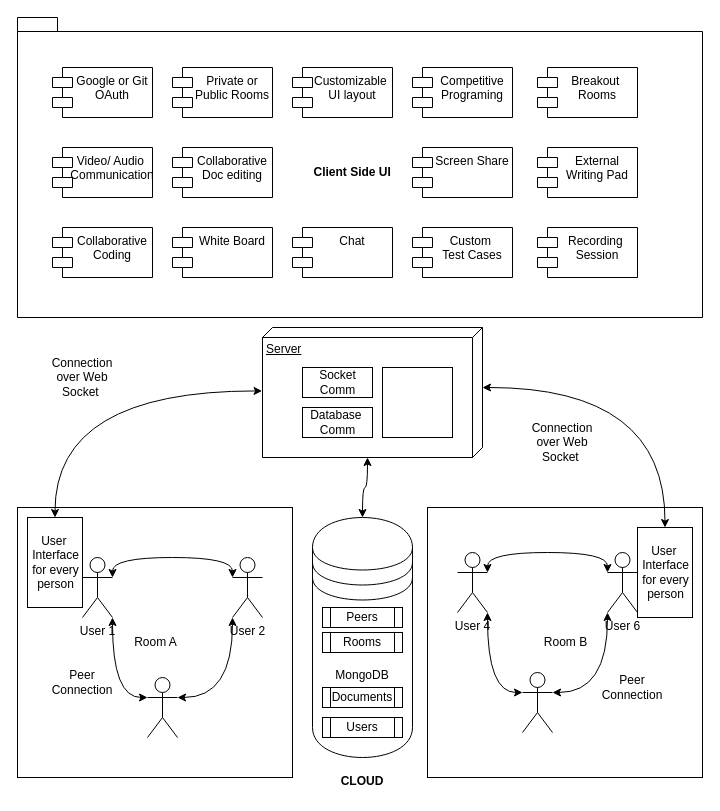
Some shapes in this 720 by 811 pixel diagram are drawn without their labels. Each missing label, with the centre of its shape:
Peer to Peer Network Handling: the point at 417,402
User 3: the point at 162,707
User 5: the point at 537,702
